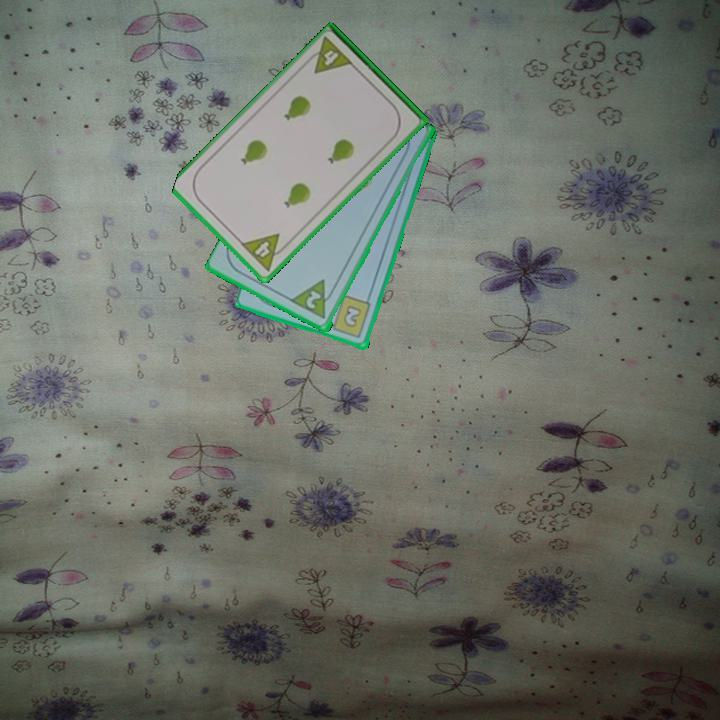2b: (324, 292, 374, 341)
2p: (302, 287, 325, 312)
4p: (237, 230, 292, 274), (302, 34, 356, 76)
